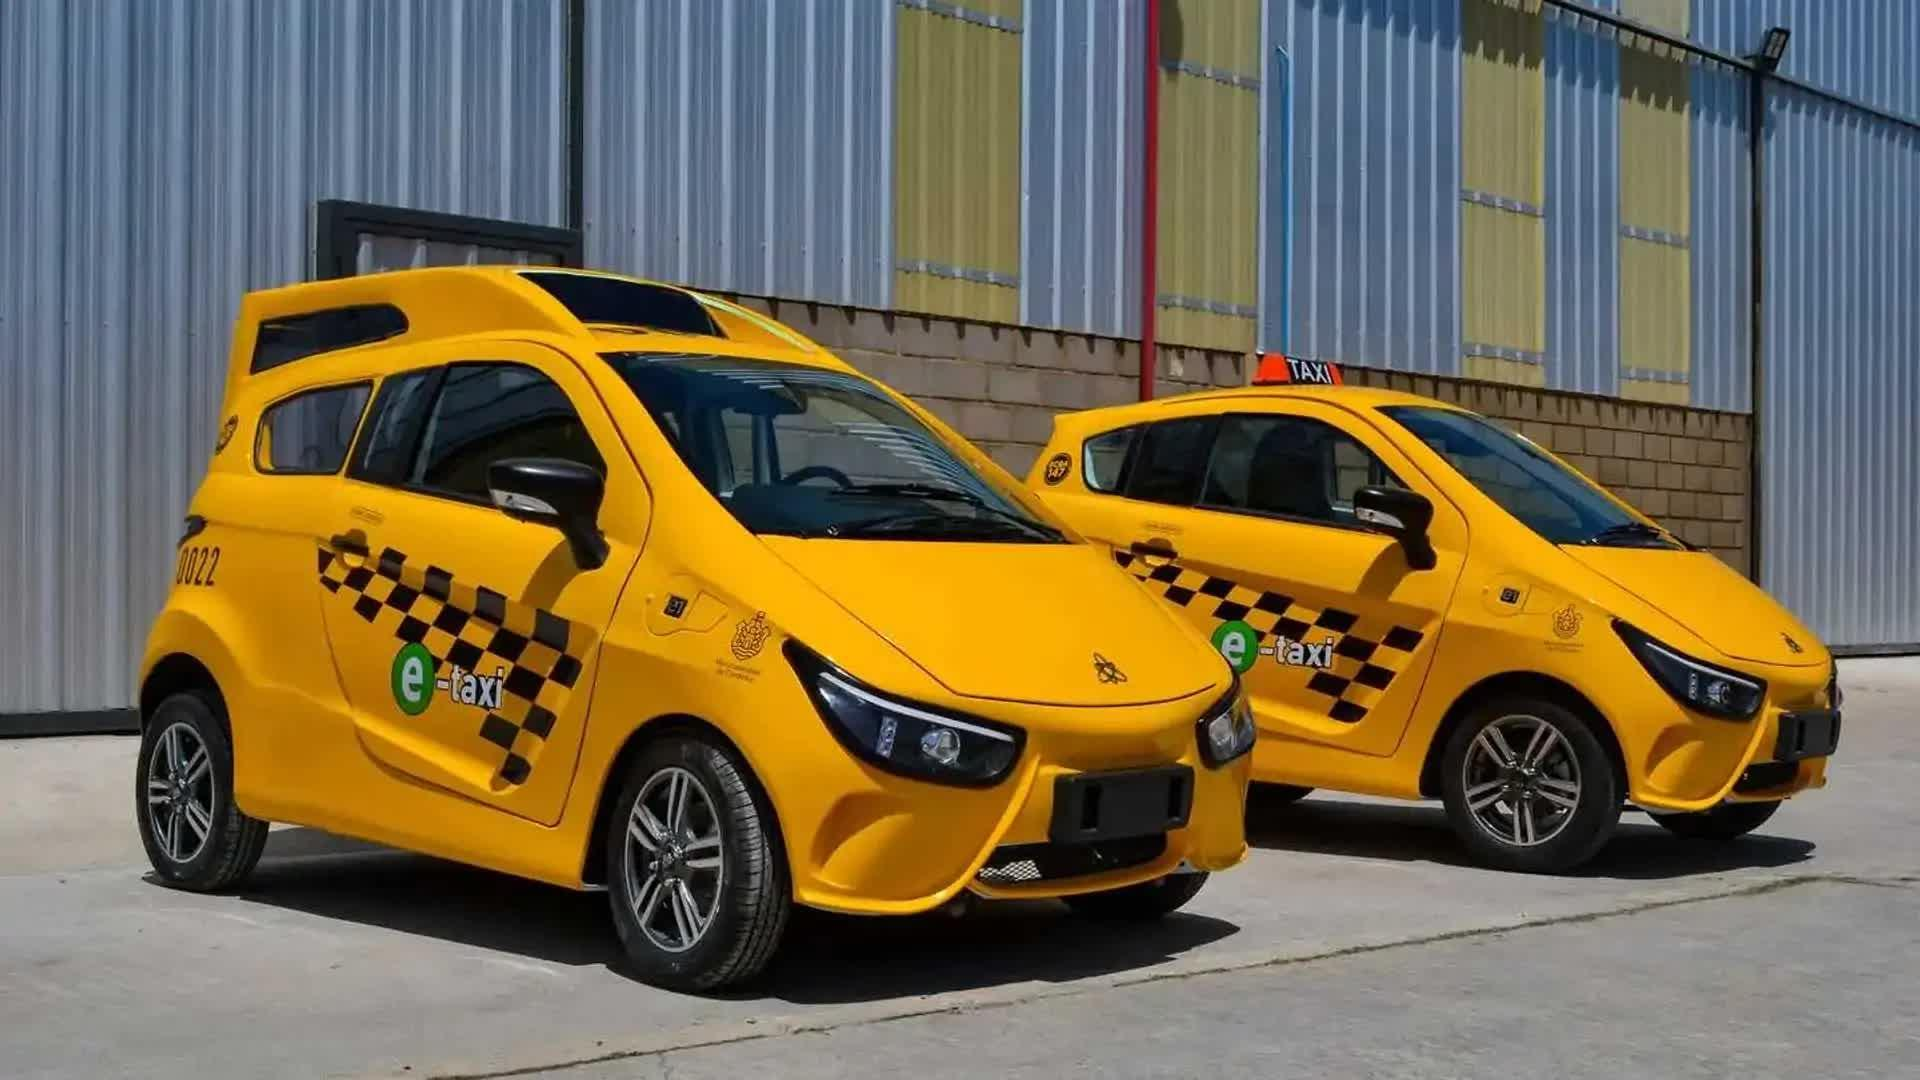taxi: (119, 245, 1276, 976)
